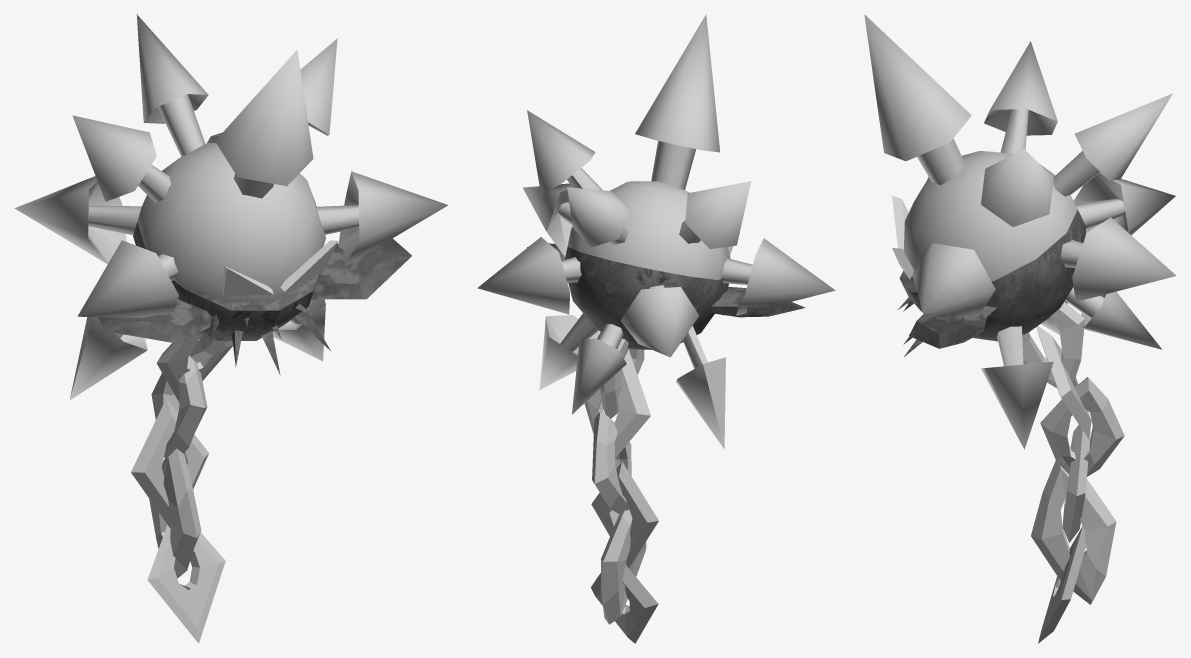
Rendered from pufferfish_mine.fbx.
The picture shows the model from 3 angles, left to right: view 1: azimuth 30°, elevation 25°; view 2: azimuth 150°, elevation 25°; view 3: azimuth 270°, elevation 25°; orthographic projection. The views are drawn at different scales.
Visible parts, largest first — view 1: pufferfish_mine; view 2: pufferfish_mine; view 3: pufferfish_mine.
Boxes of the visible parts, x1,y1,x2,y2 form: pufferfish_mine: (14, 14, 448, 643); pufferfish_mine: (477, 14, 835, 643); pufferfish_mine: (864, 14, 1176, 643).
Bounding box in the file's own units: 438 × 752 × 336.
